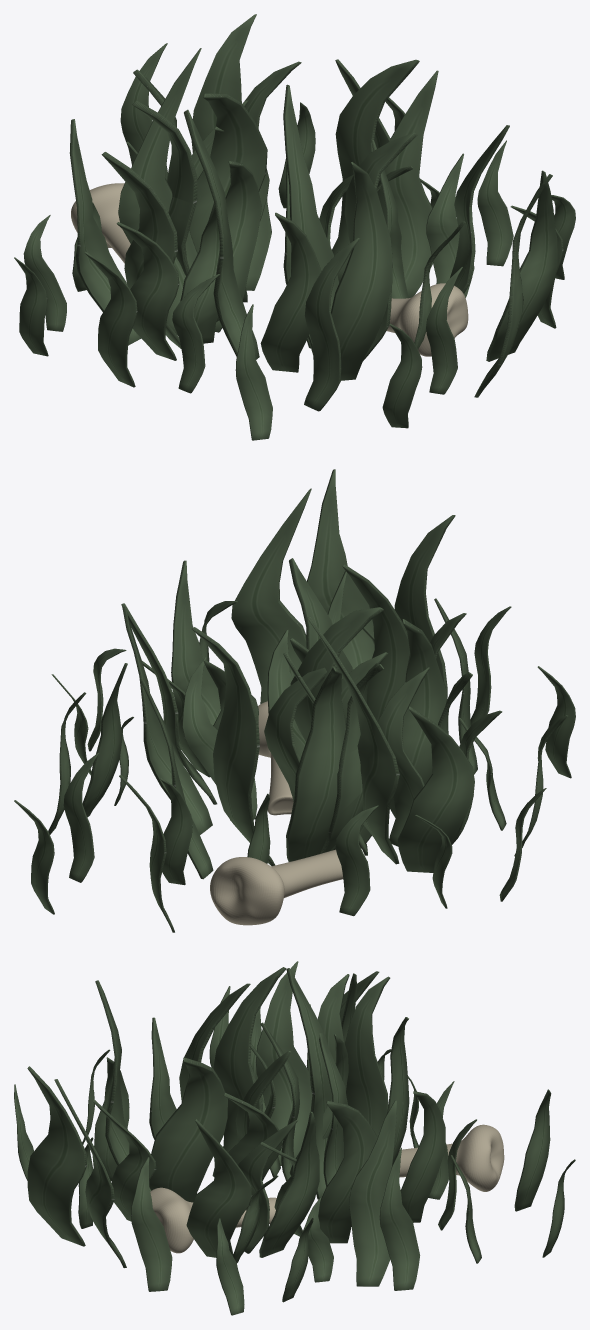
File: Grass_Broken Bone.fbx
3 views of the same model, one above another, from view 1: azimuth 30°, elevation 25°; view 2: azimuth 150°, elevation 25°; view 3: azimuth 270°, elevation 25° (orthographic). The views are drawn at different scales.
Parts seen in each view (by area): view 1: Grasspatch.001, BrokenBone; view 2: Grasspatch.001, BrokenBone; view 3: Grasspatch.001, BrokenBone.
Boxes of the visible parts, x1,y1,x2,y2 form: Grasspatch.001: (14, 14, 575, 440); BrokenBone: (71, 183, 468, 356); Grasspatch.001: (14, 469, 575, 932); BrokenBone: (210, 701, 343, 925); Grasspatch.001: (14, 961, 575, 1315); BrokenBone: (150, 1124, 504, 1253).
Size of the model in its own units: 32.88 by 15.7 by 36.28.
